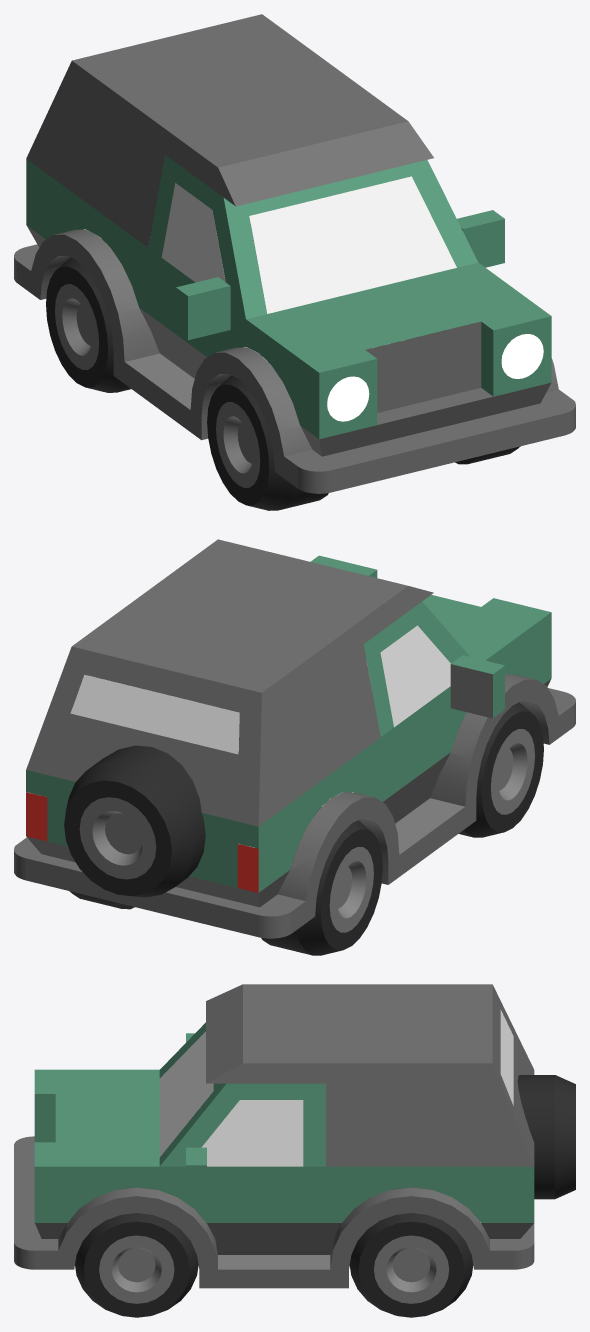
File: kenney_suv.glb
3 views of the same model, one above another, from view 1: azimuth 30°, elevation 25°; view 2: azimuth 150°, elevation 25°; view 3: azimuth 270°, elevation 25° (orthographic). The views are drawn at different scales.
Parts seen in each view (by area): view 1: body, wheel_frontRight, wheel_backRight; view 2: body, wheel_back, wheel_backRight, wheel_frontRight; view 3: body, wheel_frontLeft, wheel_backLeft, wheel_back.
Part boxes in pixels (x1,y1,x2,y2): body: (14, 14, 575, 493); wheel_frontRight: (207, 375, 328, 510); wheel_backRight: (46, 244, 150, 392); body: (14, 539, 575, 938); wheel_back: (64, 745, 205, 897); wheel_backRight: (261, 807, 382, 955); wheel_frontRight: (445, 702, 543, 837); body: (14, 984, 534, 1288); wheel_frontLeft: (75, 1187, 198, 1317); wheel_backLeft: (349, 1187, 473, 1317); wheel_back: (517, 1075, 575, 1199).
Size of the model in its own units: 1.5 by 1.3 by 2.7.
